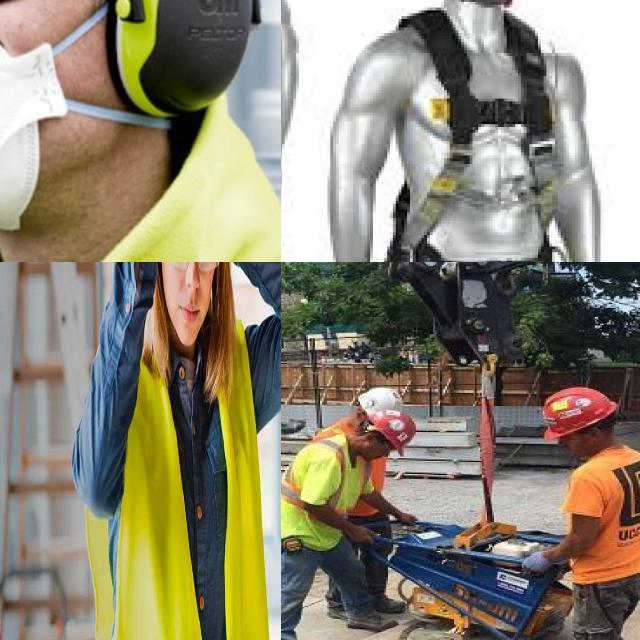Ear-protection: (123, 0, 258, 121)
Harness: (375, 10, 566, 262)
face_nomask: (166, 262, 220, 335), (555, 420, 603, 470), (346, 426, 395, 468)
glasses: (155, 262, 225, 276)
hand_glove: (504, 542, 562, 585)
hand_noglove: (348, 525, 395, 555), (400, 504, 426, 538)
head_helmet: (539, 386, 619, 440), (366, 408, 418, 452), (353, 384, 400, 419)
person: (83, 262, 278, 640), (0, 0, 281, 262), (281, 406, 417, 640), (537, 386, 640, 640)
vest: (91, 326, 281, 640), (281, 432, 370, 547)
